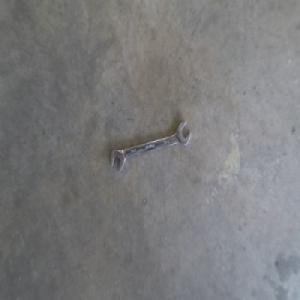Wrench: (109, 119, 193, 173)
